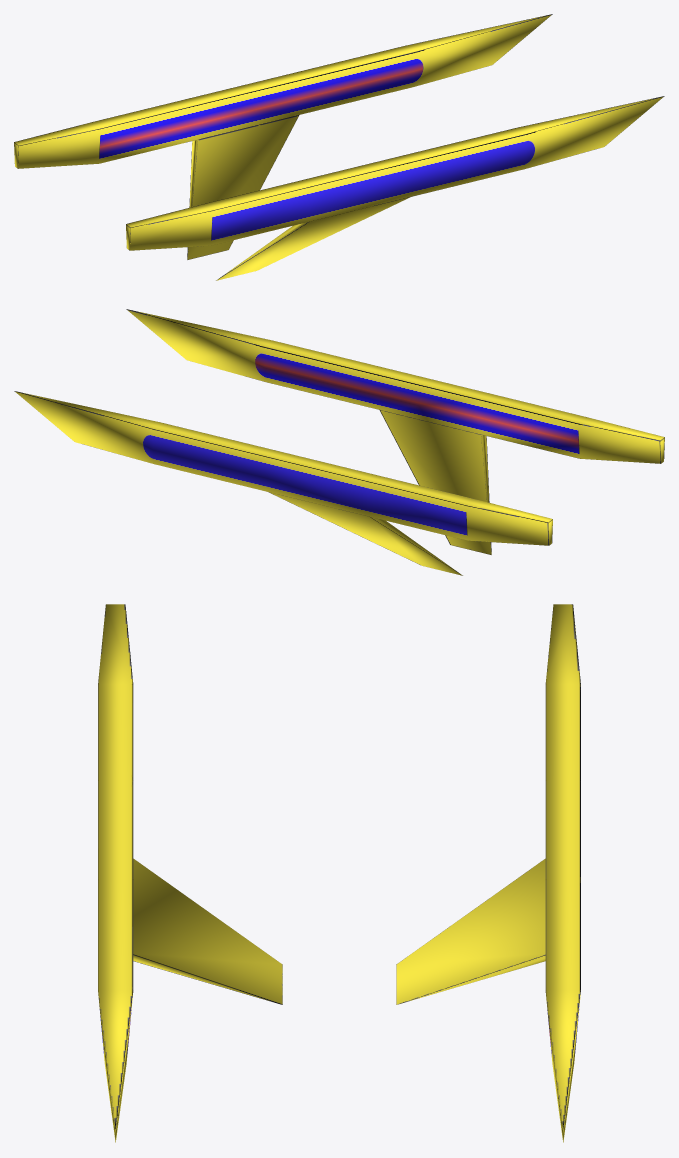
File: warpEngines.fbx
3 renders of one model, top to bottom at view 1: azimuth 30°, elevation 25°; view 2: azimuth 150°, elevation 25°; view 3: azimuth 270°, elevation 25°, orthographic. The views are drawn at different scales.
Visible parts, largest first — view 1: Cube; view 2: Cube; view 3: Cube.
Part boxes in pixels (x1,y1,x2,y2): Cube: [14, 14, 664, 280]; Cube: [14, 309, 664, 575]; Cube: [98, 604, 580, 1142].
Bounding box in the file's own units: 10.56 × 2.2 × 4.12.
1 material, 1 textured.
